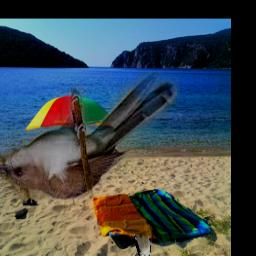Cuckoo: (0, 71, 180, 200)
Swallow: (134, 235, 152, 256)
